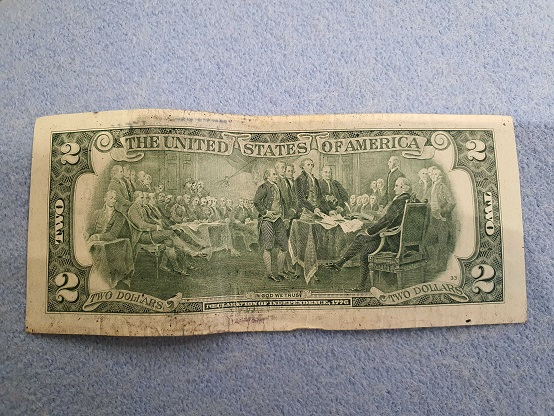2dollar: (24, 110, 528, 337)
